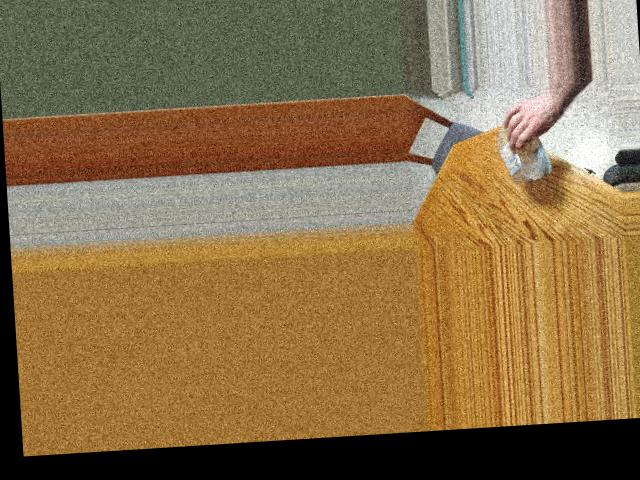cheese: (499, 122, 545, 177)
